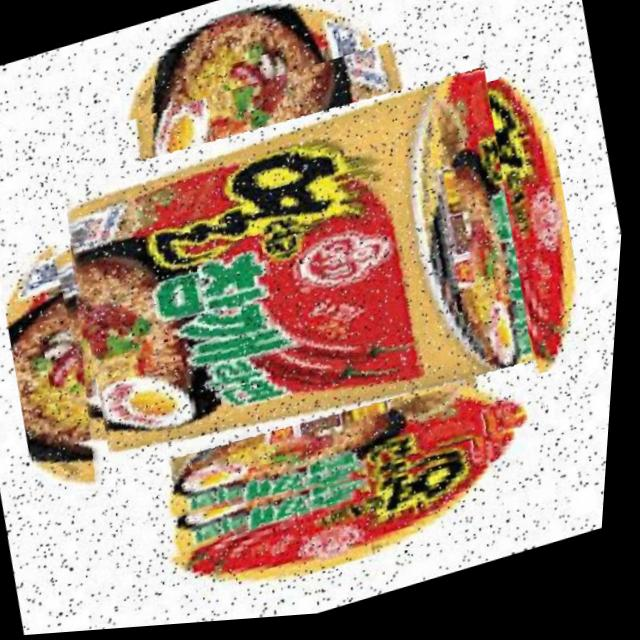Miscellaneous: (14, 18, 574, 580)
